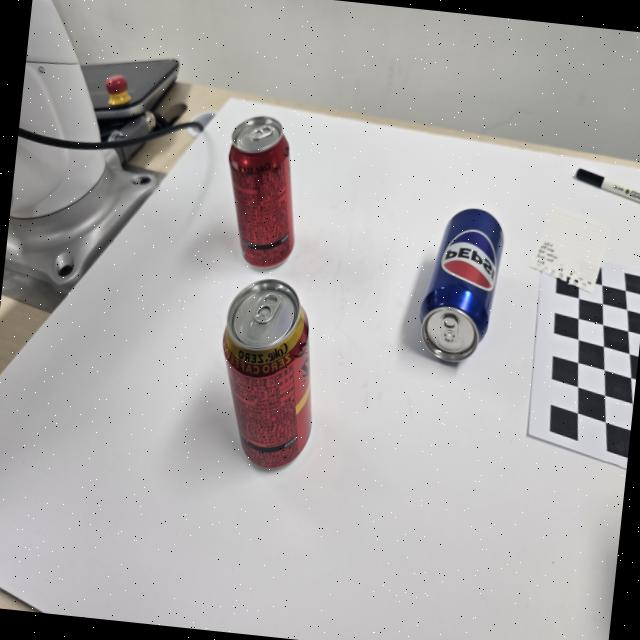can_coke_decaf: (221, 281, 312, 467)
can_coke_zero: (227, 115, 295, 267)
can_pepsi: (419, 209, 504, 360)
